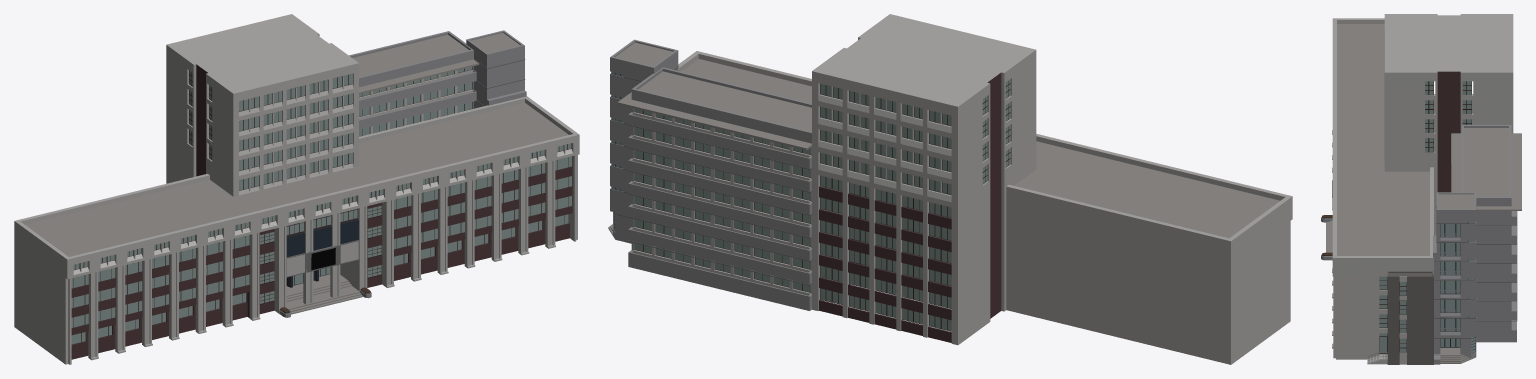
The model's file is 08_새힘관.FBX.
3 views of the same model, side by side, from view 1: azimuth 30°, elevation 25°; view 2: azimuth 150°, elevation 25°; view 3: azimuth 270°, elevation 25° (orthographic). The views are drawn at different scales.
Visible parts, largest first — view 1: 08_순헌관; view 2: 08_순헌관; view 3: 08_순헌관.
Part boxes in pixels (left/top/right/bottom): 08_순헌관: left=14, top=14, right=579, bottom=364; 08_순헌관: left=608, top=14, right=1292, bottom=364; 08_순헌관: left=1321, top=14, right=1521, bottom=364.
Bounding box in the file's own units: 424 × 159 × 147.
